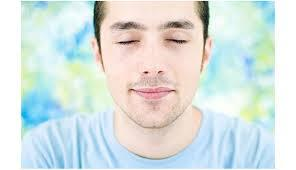Drowsy: (78, 0, 236, 146)
